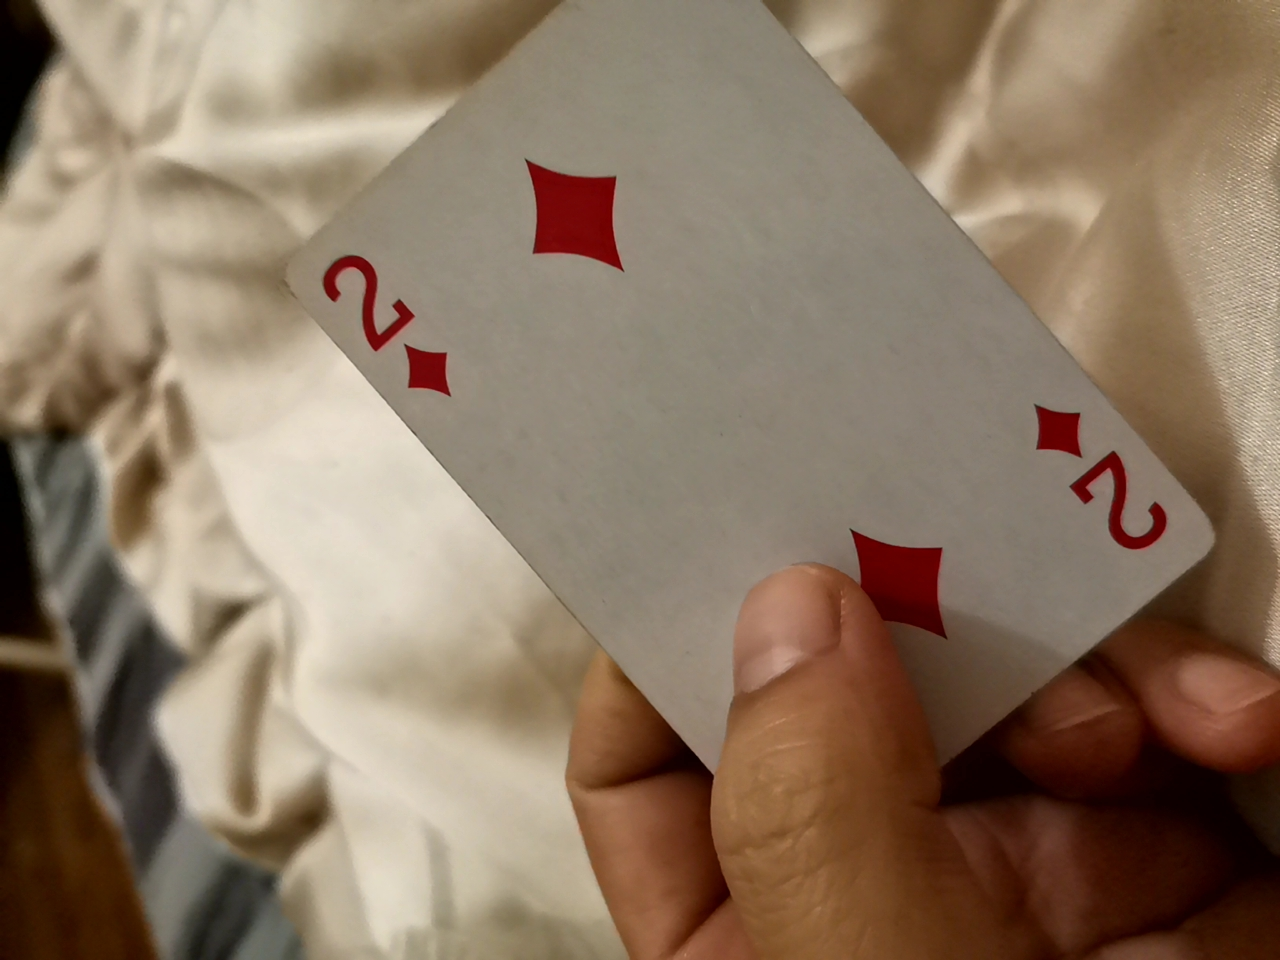fk 2: (243, 12, 1220, 847)
